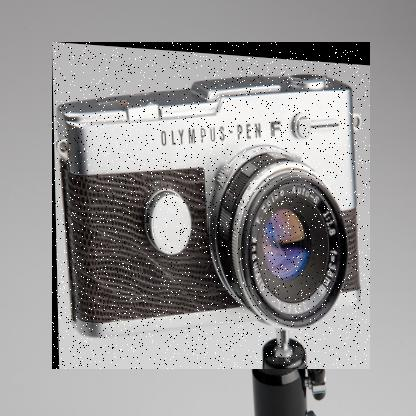Camera: (53, 43, 372, 371)
